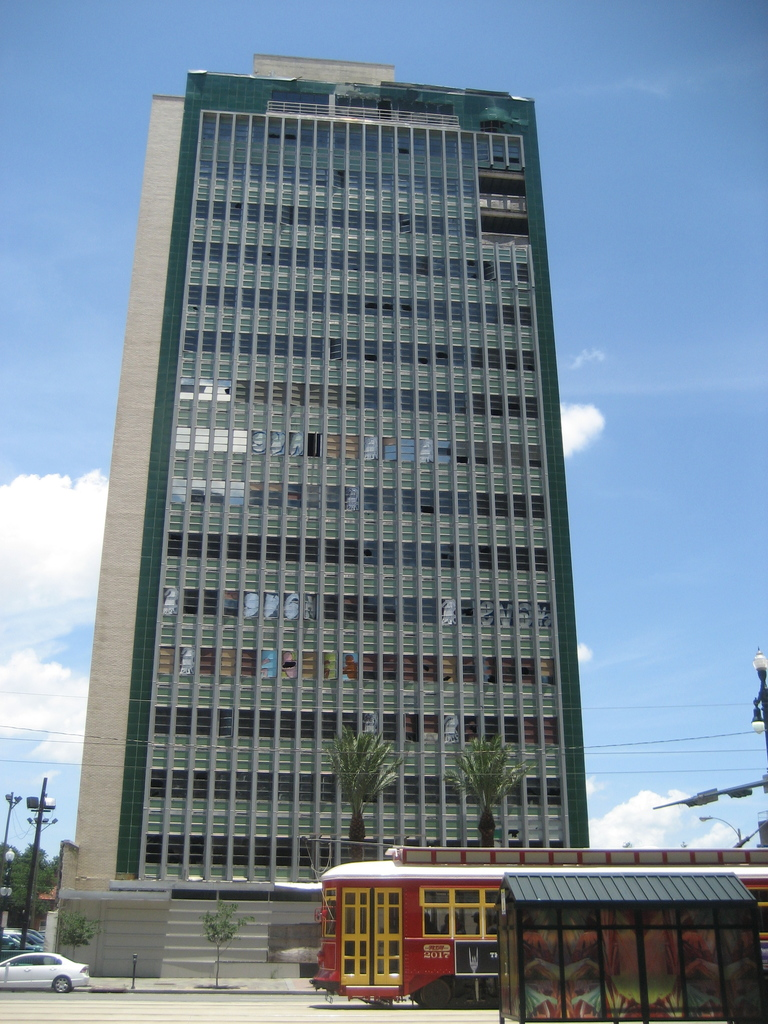Bus: (314, 848, 767, 1013)
